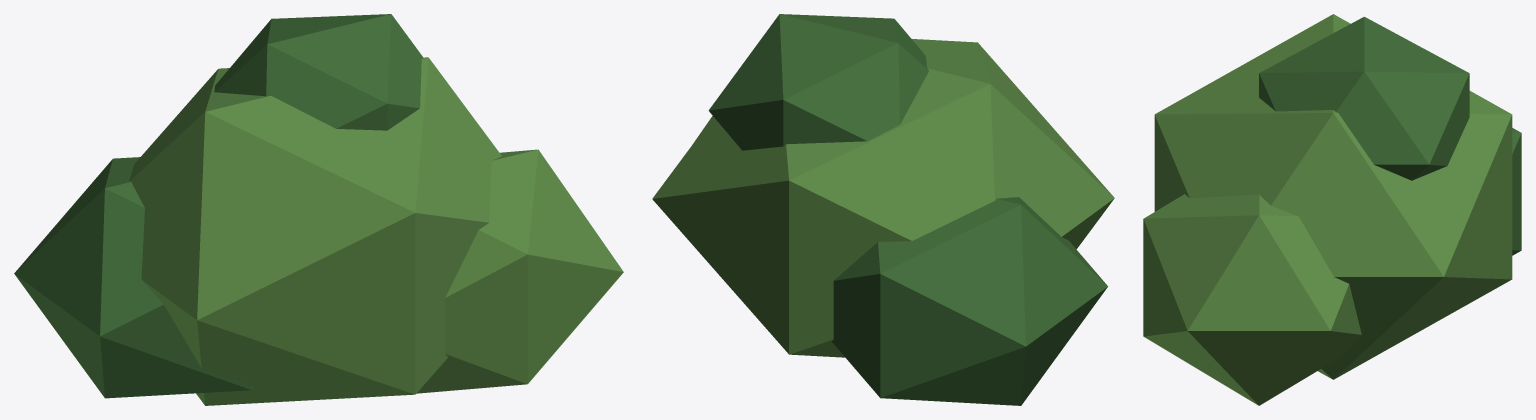
File: mod-arbusto.gltf
3 views of the same model, side by side, from view 1: azimuth 30°, elevation 25°; view 2: azimuth 150°, elevation 25°; view 3: azimuth 270°, elevation 25° (orthographic). The views are drawn at different scales.
Visible parts, largest first — view 1: mod-arbusto; view 2: mod-arbusto; view 3: mod-arbusto.
Boxes of the visible parts, box(x1,y1,x2,y2) form: mod-arbusto: box(14, 14, 623, 405); mod-arbusto: box(652, 14, 1114, 405); mod-arbusto: box(1143, 14, 1521, 405).
Bounding box in the file's own units: 0.7668 × 0.5362 × 0.6113.
